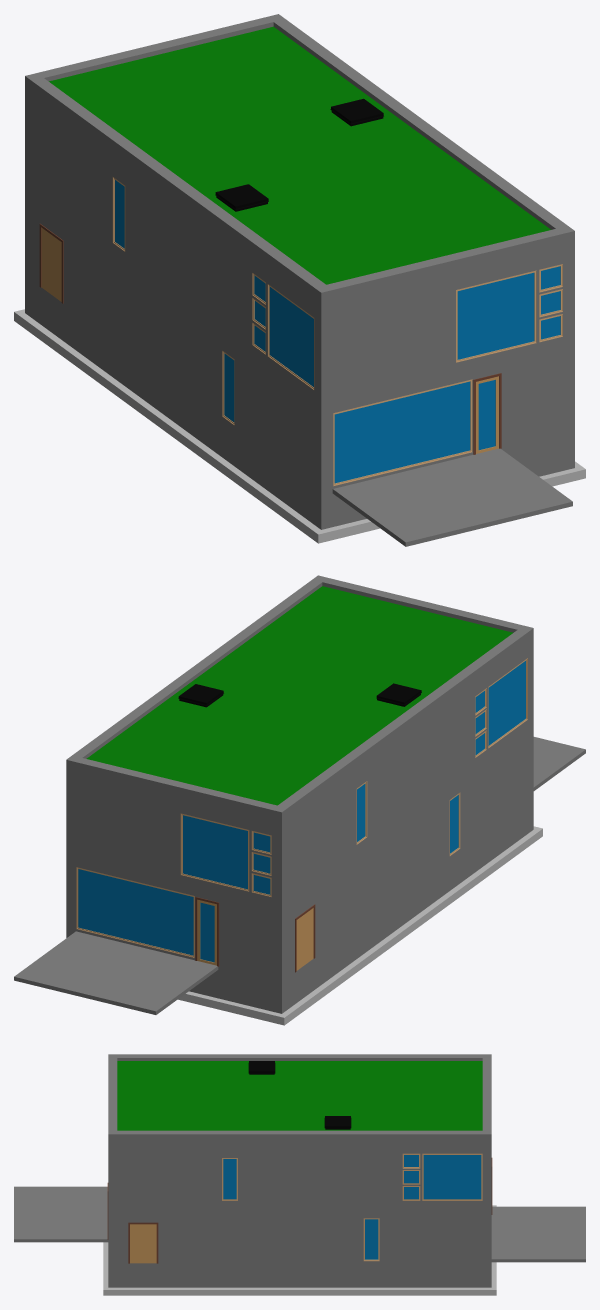
The model's file is Duplex_A_20110907.dae.
The picture shows the model from 3 angles, top to bottom: view 1: azimuth 30°, elevation 25°; view 2: azimuth 150°, elevation 25°; view 3: azimuth 270°, elevation 25°; orthographic projection. The views are drawn at different scales.
Parts seen in each view (by area): view 1: node (×25); view 2: node (×23); view 3: node (×18).
Boxes of the visible parts, x1,y1,x2,y2 form: node (×25): [14, 14, 574, 546]; node (×23): [14, 575, 585, 1025]; node (×18): [14, 1054, 585, 1295].
Bounding box in the file's own units: 9.28 × 26.57 × 8.18.
